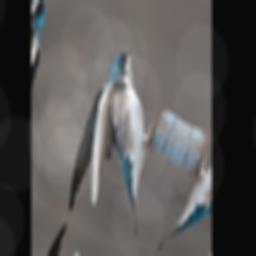Swallow: (58, 33, 187, 253)
